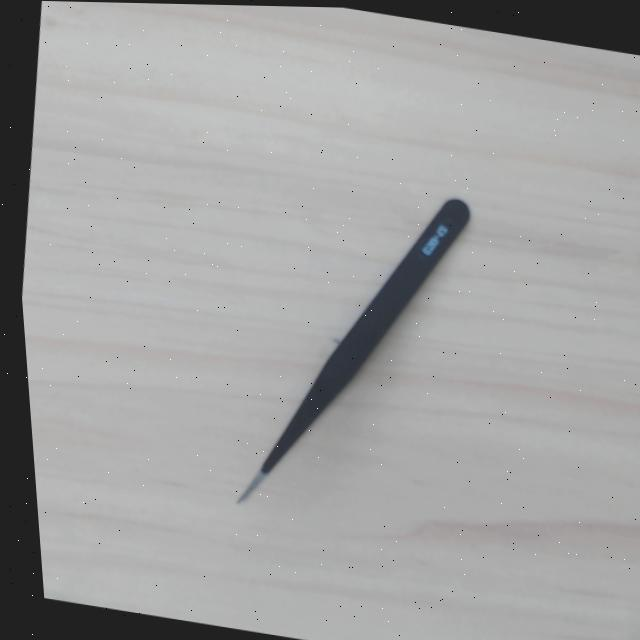Tweezers: (229, 192, 476, 514)
